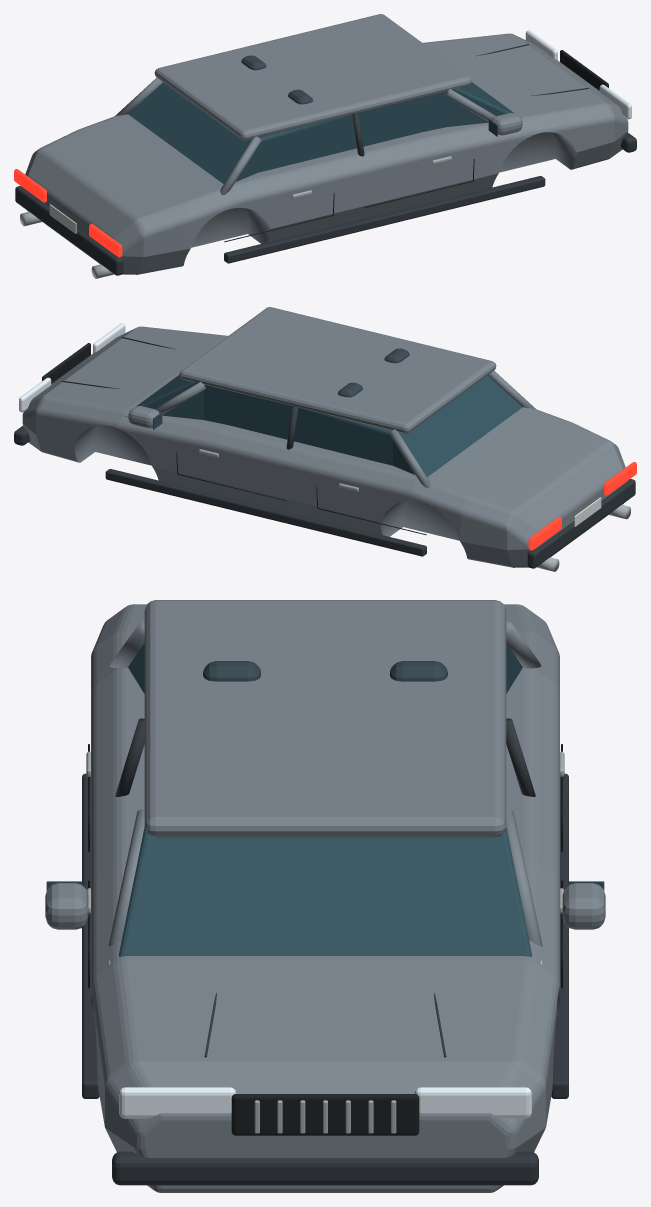
The model's file is SM_Muscle.fbx.
3 renders of one model, top to bottom at view 1: azimuth 30°, elevation 25°; view 2: azimuth 150°, elevation 25°; view 3: azimuth 270°, elevation 25°, orthographic. The views are drawn at different scales.
Visible parts, largest first — view 1: SM_Muscle; view 2: SM_Muscle; view 3: SM_Muscle.
Part boxes in pixels (x1,y1,x2,y2): SM_Muscle: (14,14,636,278); SM_Muscle: (14,307,636,571); SM_Muscle: (45,600,605,1192).
Size of the model in its own units: 510 by 234 by 113.
